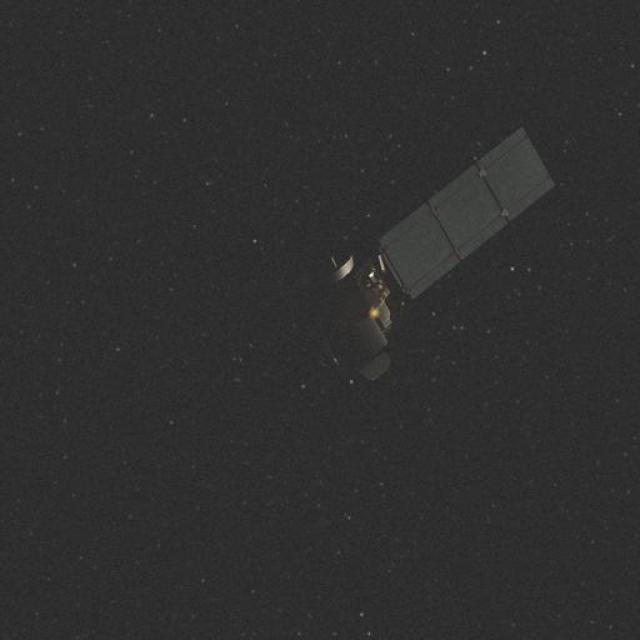earth_observation_sat_1: (291, 175, 478, 391)
